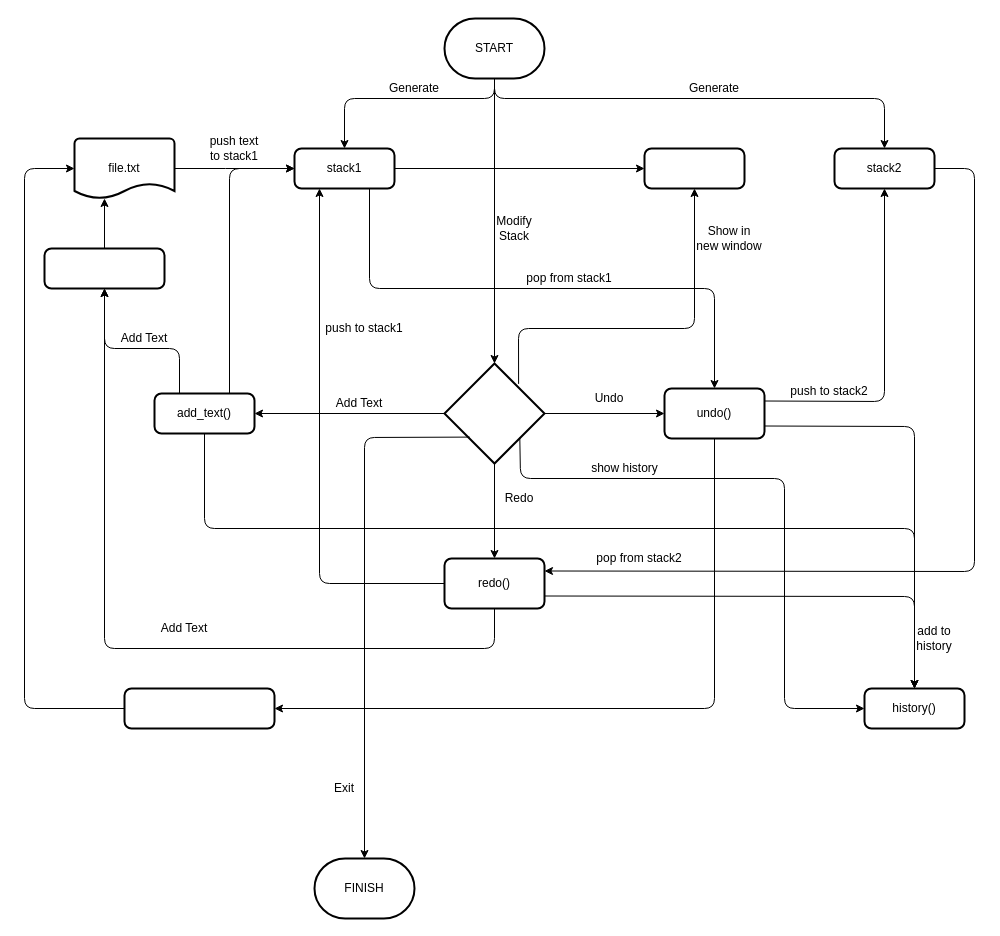
This 1000x936 diagram has some shape labels left out. The centre of each missing label's shape, as x and y in pixels:
"add_text_to_file()" goes at pixel 104 268.
"GUI" goes at pixel 494 413.
"remove_text_from_file()" goes at pixel 199 708.
"show_text()" goes at pixel 694 168.
